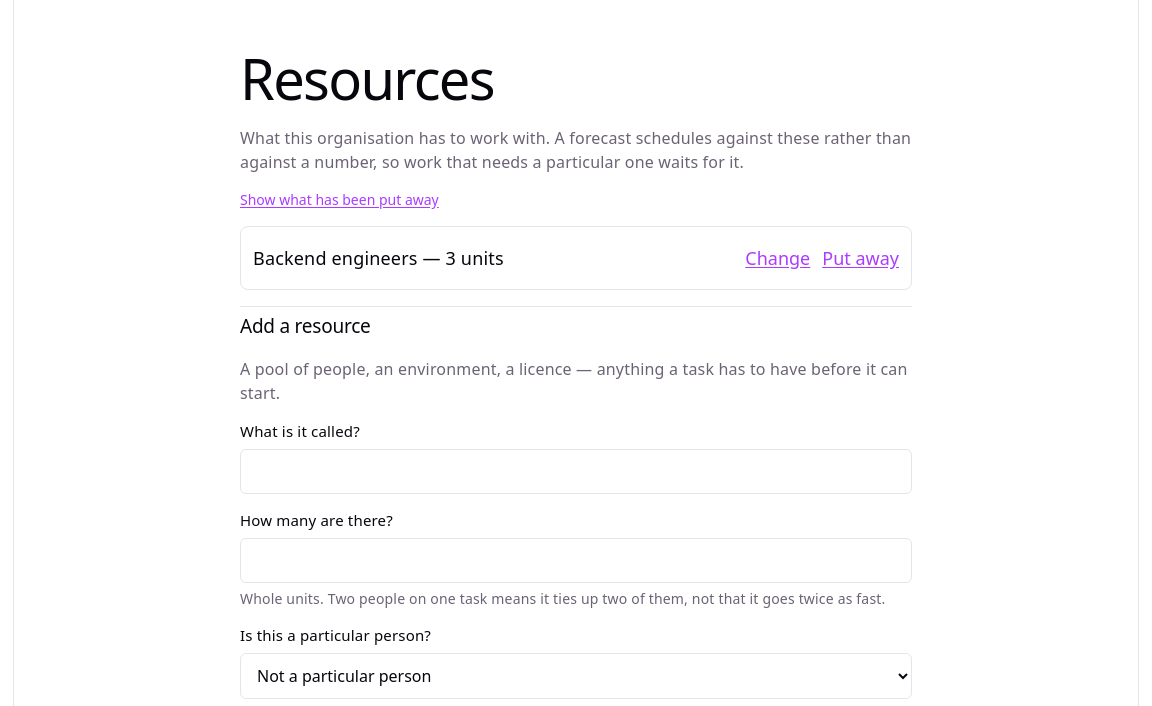
ResourcesPage › reports a pool it could not put away
Expected: the heading "Resources" is shown, [240, 40, 494, 116]
Step 1. Click the button "Put away" → (861, 258), box [822, 239, 899, 277]
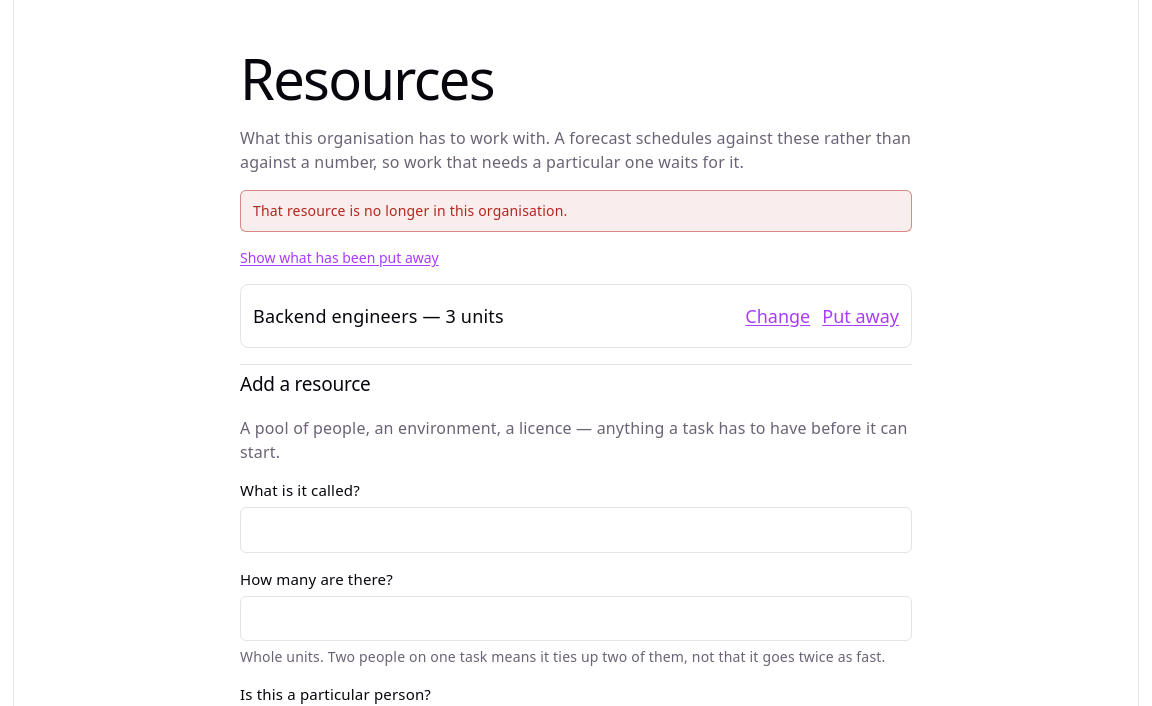
Now the text "That resource is no longer in this organisation." is shown, box [240, 190, 912, 232]
